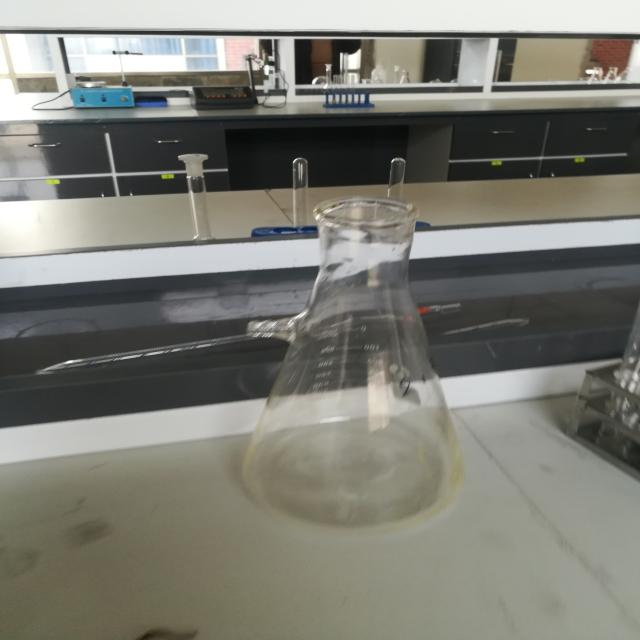Conical_Flask: (235, 189, 500, 555)
